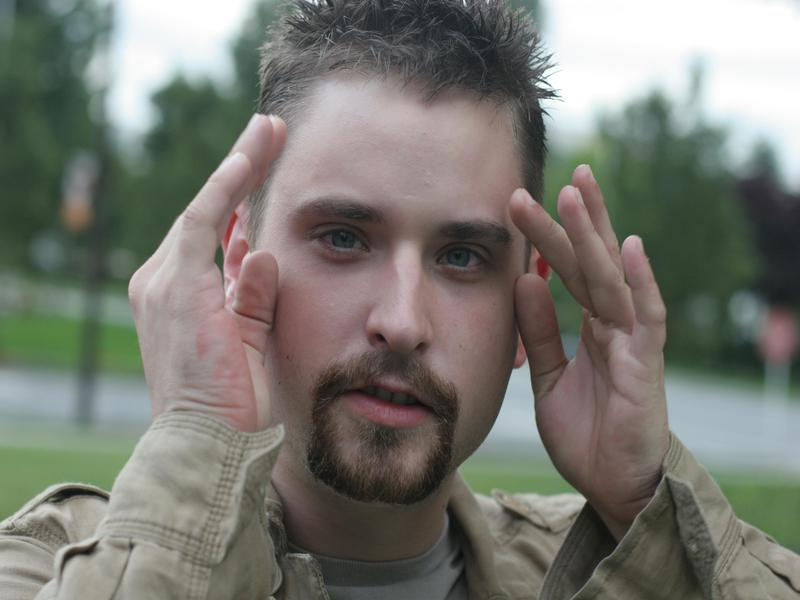person: (1, 5, 756, 600)
